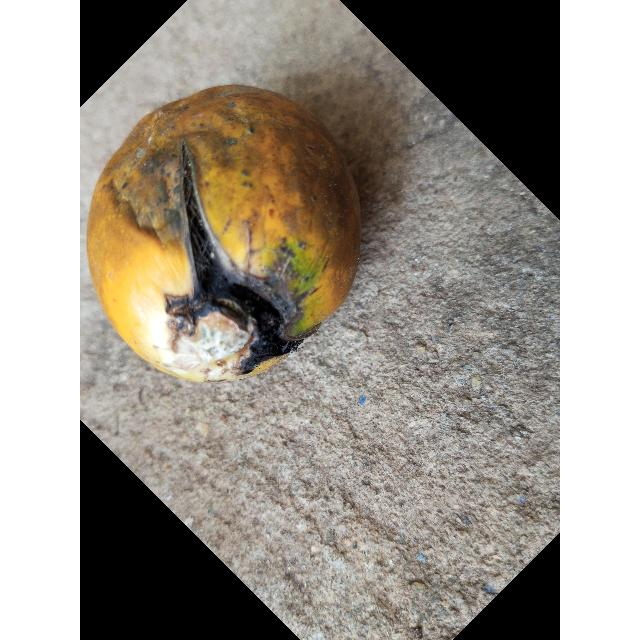damaged: (86, 84, 362, 386)
